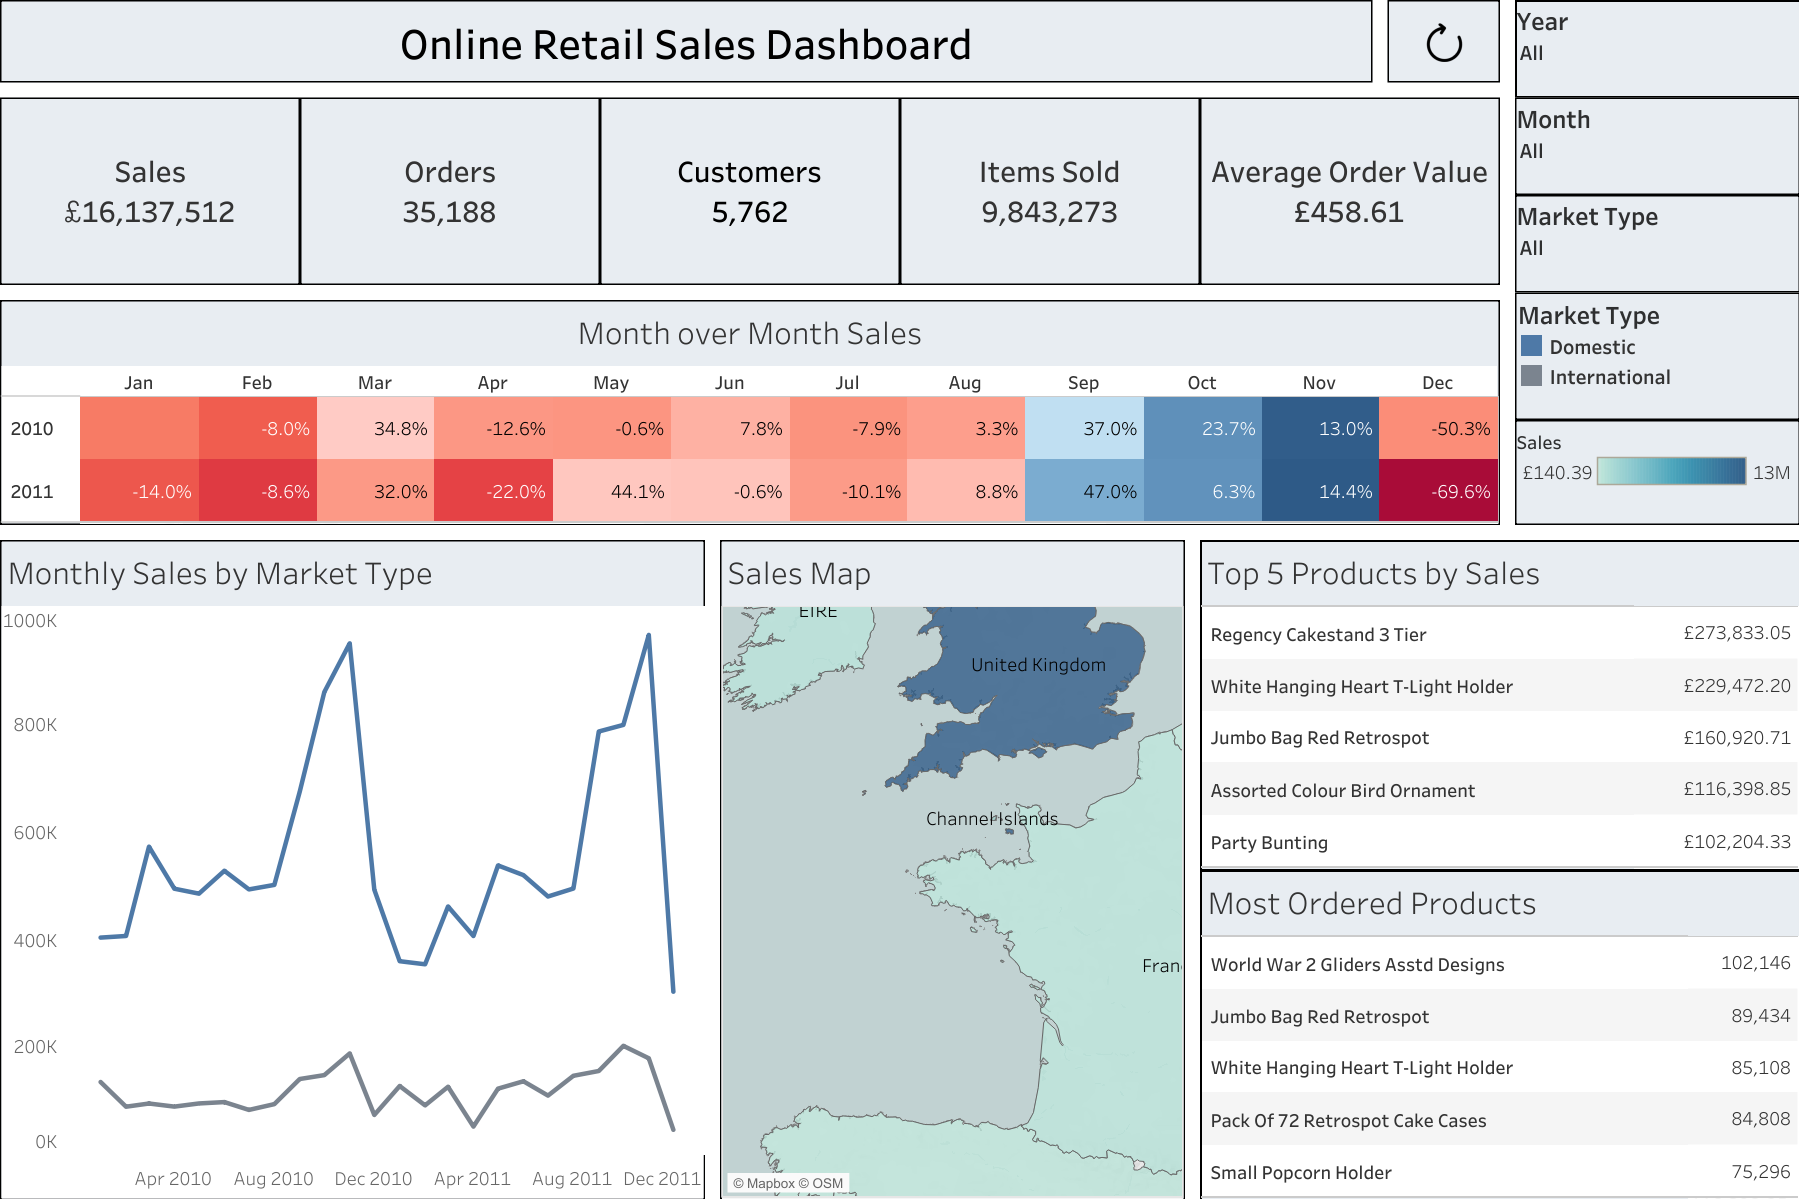

This screenshot's page, from the dashboard's own definition file:
{"tool":"tableau","page":{"name":"Online Retail Sales Dashboard","canvas":[1200,800],"ordinal":0},"visuals":[{"type":"text","box":[0,0,915,55]},{"type":"worksheet","title":"Reset button","mark":"Shape","box":[925,0,75,55]},{"type":"filter","title":"Monthly Domestic vs International Sales","param":"[federated.1iisqef1p4xa791eljurt0vfxgyk].[yr:InvoiceDate:ok]","box":[1010,0,190,65]},{"type":"worksheet","title":"Sales KPI","mark":"Automatic","box":[0,65,200,125]},{"type":"worksheet","title":"Orders KPI","mark":"Automatic","box":[200,65,200,125]},{"type":"worksheet","title":"Customers KPI","mark":"Automatic","box":[400,65,200,125]},{"type":"worksheet","title":"Items Sold KPI","mark":"Automatic","box":[600,65,200,125]},{"type":"worksheet","title":"Avg. Order Value KPI","mark":"Automatic","box":[800,65,200,125]},{"type":"filter","title":"Monthly Domestic vs International Sales","param":"[federated.1iisqef1p4xa791eljurt0vfxgyk].[mn:InvoiceDate:ok]","box":[1010,65,190,65]},{"type":"filter","title":"Monthly Domestic vs International Sales","param":"[federated.1iisqef1p4xa791eljurt0vfxgyk].[none:Calculation_1256248223649793:nk]","box":[1010,130,190,65]},{"type":"legend","title":"Monthly Domestic vs International Sales","param":"[federated.1iisqef1p4xa791eljurt0vfxgyk].[io:Domestic:nk]","box":[1010,195,190,85]},{"type":"worksheet","title":"MoM Sales","mark":"Square","rows":["InvoiceDate"],"cols":["InvoiceDate"],"box":[0,200,1000,150]},{"type":"legend","title":"Sales Map","param":"[federated.1iisqef1p4xa791eljurt0vfxgyk].[sum:Sales:qk]","box":[1010,280,190,70]},{"type":"worksheet","title":"Monthly Domestic vs International Sales","mark":"Automatic","rows":["Sales"],"cols":["InvoiceDate"],"box":[0,360,470,440]},{"type":"worksheet","title":"Sales Map","mark":"Multipolygon","box":[480,360,310,440]},{"type":"worksheet","title":"Top 5 Products by Sales Crosstab","mark":"Automatic","rows":["Description"],"box":[800,360,400,220]},{"type":"worksheet","title":"Most Ordered Products Crosstab","mark":"Automatic","rows":["Description"],"box":[800,580,400,220]}]}

Visuals, with their boxes in screenshot pixels (x1, y1, x2, y2), scaled from the page's 1200x800 canvas onto the 1799x1199 screenshot:
text: 0, 0, 1372, 82
"Reset button" worksheet (Shape marks): 1387, 0, 1499, 82
"Monthly Domestic vs International Sales" filter: 1514, 0, 1798, 97
"Sales KPI" worksheet: 0, 97, 300, 285
"Orders KPI" worksheet: 300, 97, 600, 285
"Customers KPI" worksheet: 600, 97, 900, 285
"Items Sold KPI" worksheet: 900, 97, 1199, 285
"Avg. Order Value KPI" worksheet: 1199, 97, 1499, 285
"Monthly Domestic vs International Sales" filter: 1514, 97, 1798, 195
"Monthly Domestic vs International Sales" filter: 1514, 195, 1798, 292
"Monthly Domestic vs International Sales" legend: 1514, 292, 1798, 420
"MoM Sales" worksheet (Square marks): 0, 300, 1499, 525
"Sales Map" legend: 1514, 420, 1798, 525
"Monthly Domestic vs International Sales" worksheet: 0, 540, 705, 1198
"Sales Map" worksheet (Multipolygon marks): 720, 540, 1184, 1198
"Top 5 Products by Sales Crosstab" worksheet: 1199, 540, 1798, 869
"Most Ordered Products Crosstab" worksheet: 1199, 869, 1798, 1198
